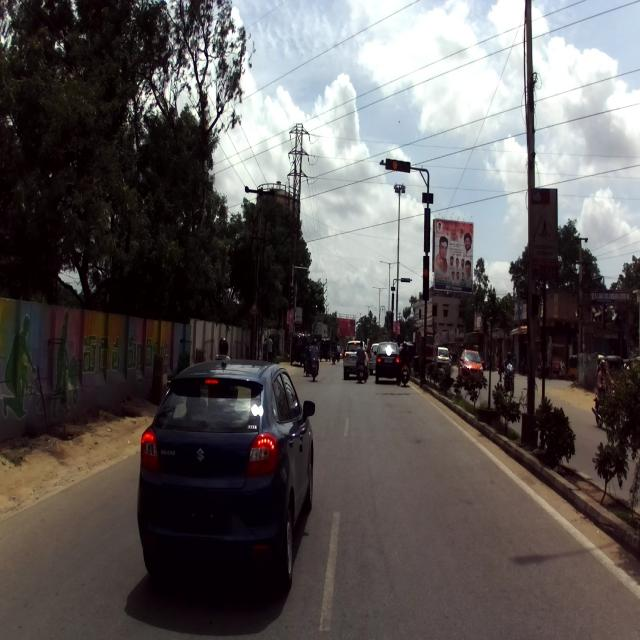car: (136, 360, 314, 612)
